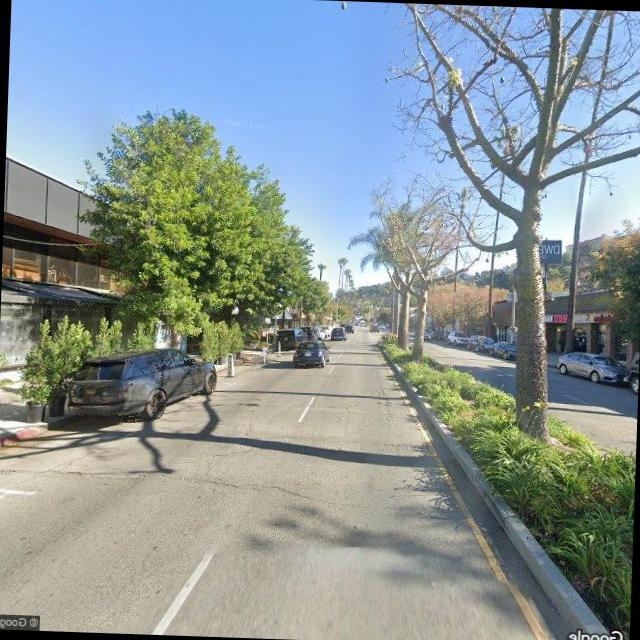crack: (0, 459, 470, 532)
